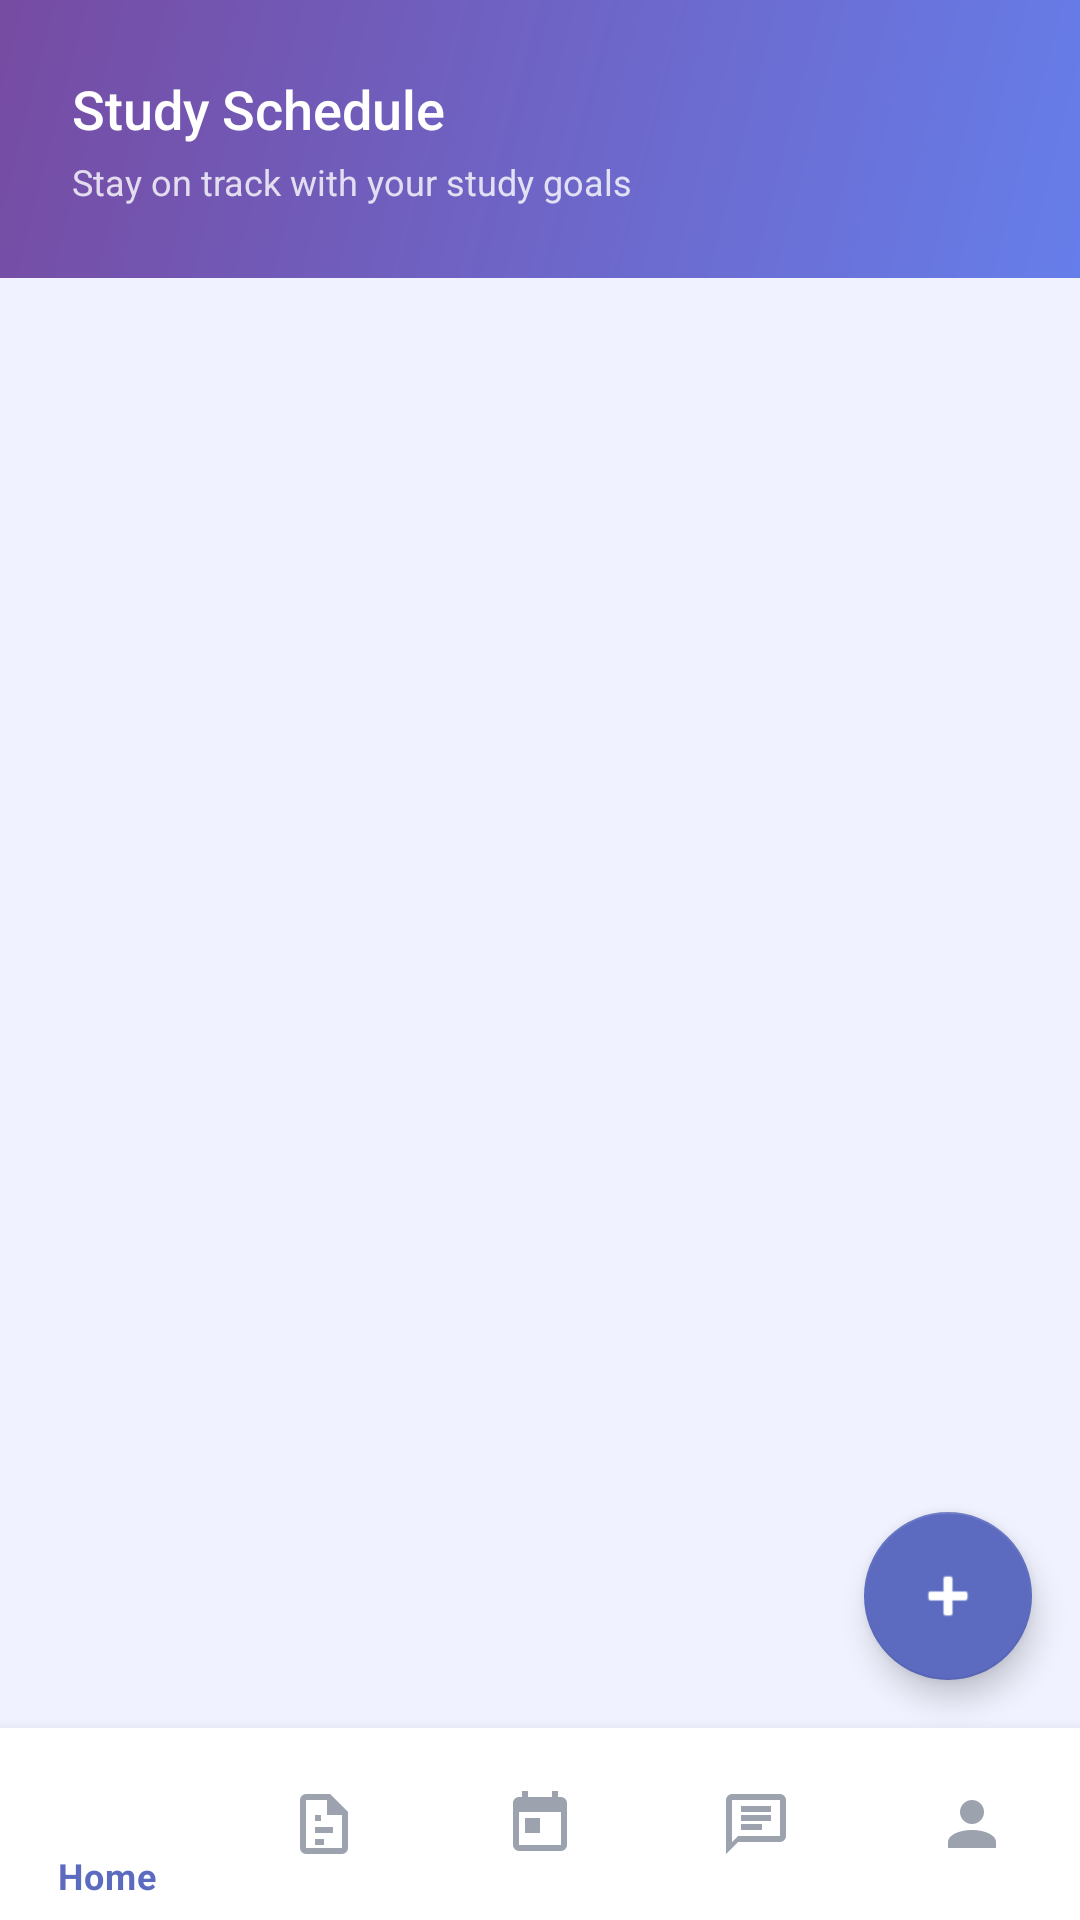

Screen size 1080 × 1920. Icon name, then its center in pixels as (x,y):
Create Schedule: (948,1596)
